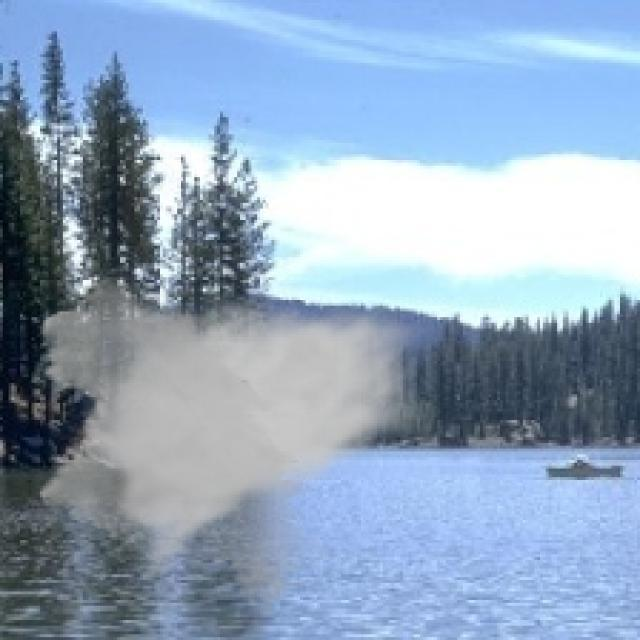Smoke: (28, 266, 434, 614)
